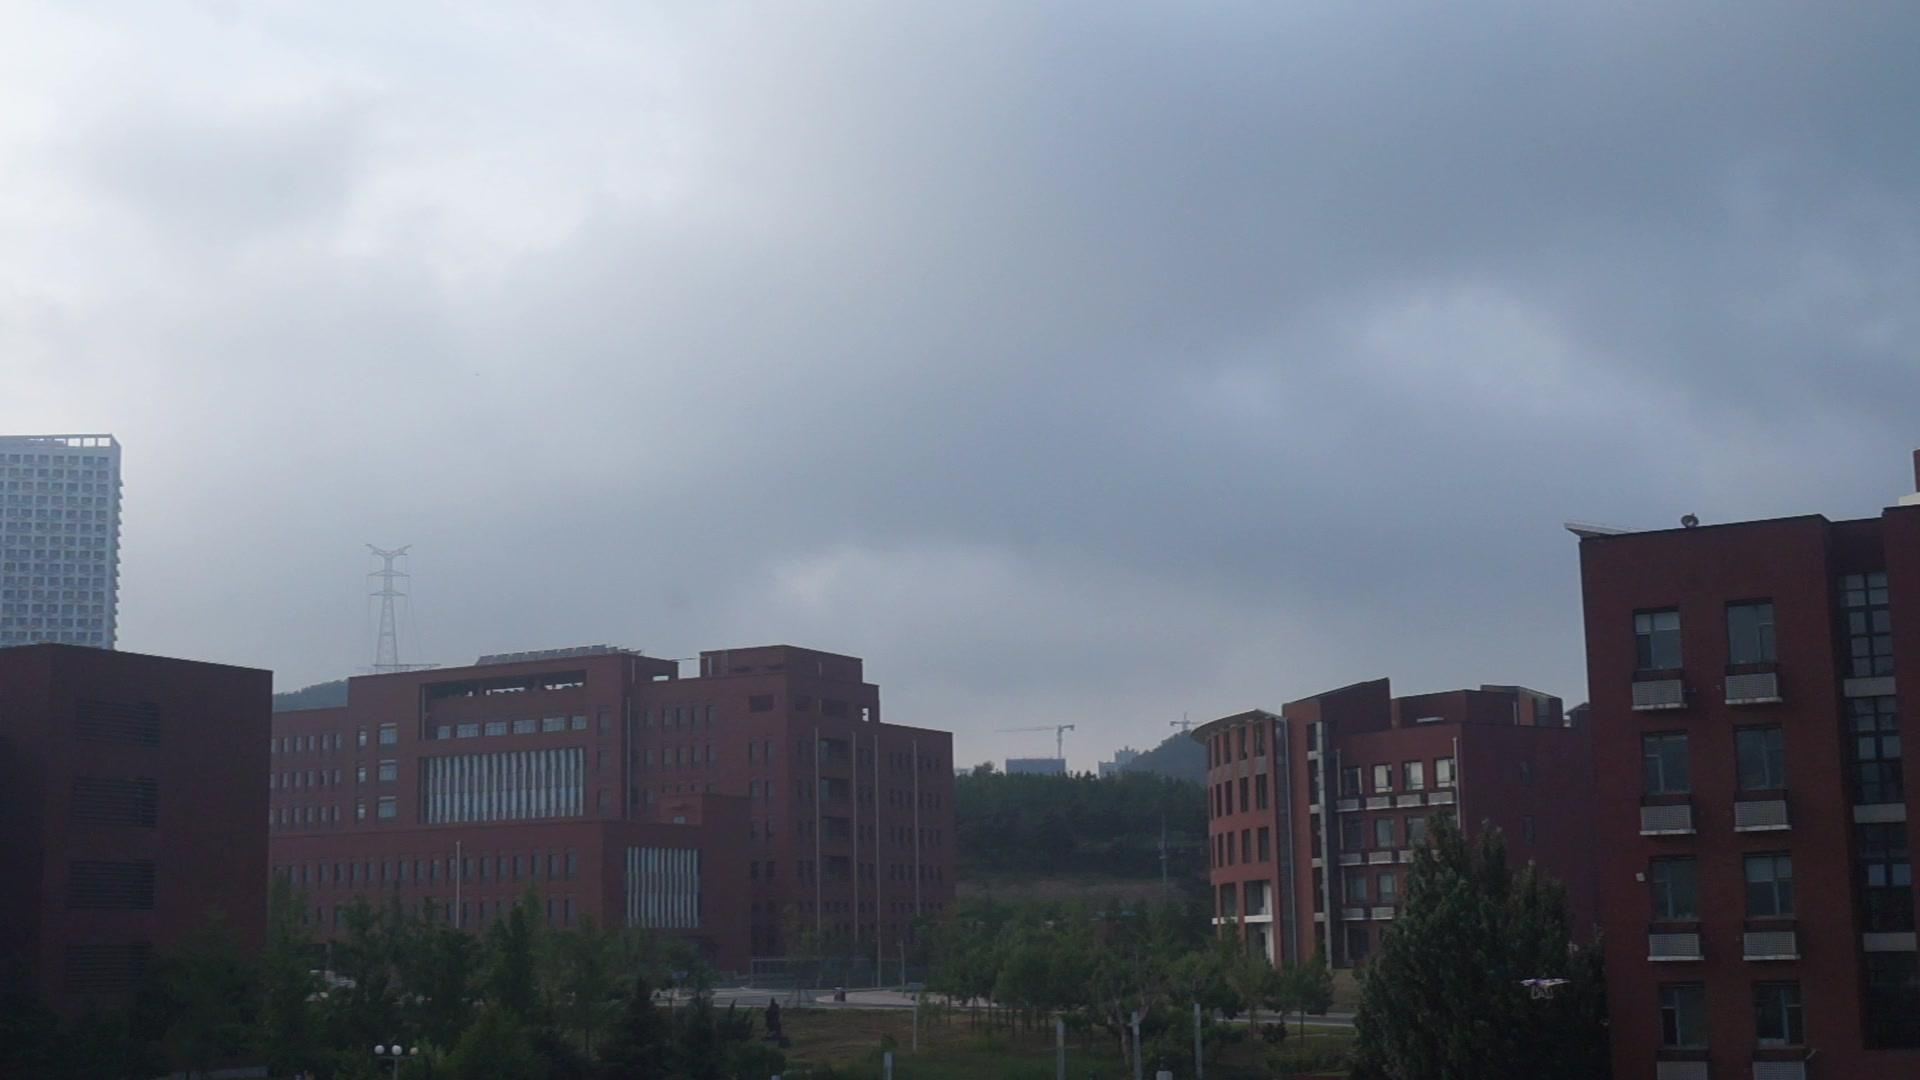UAV: (1520, 978, 1572, 1000)
